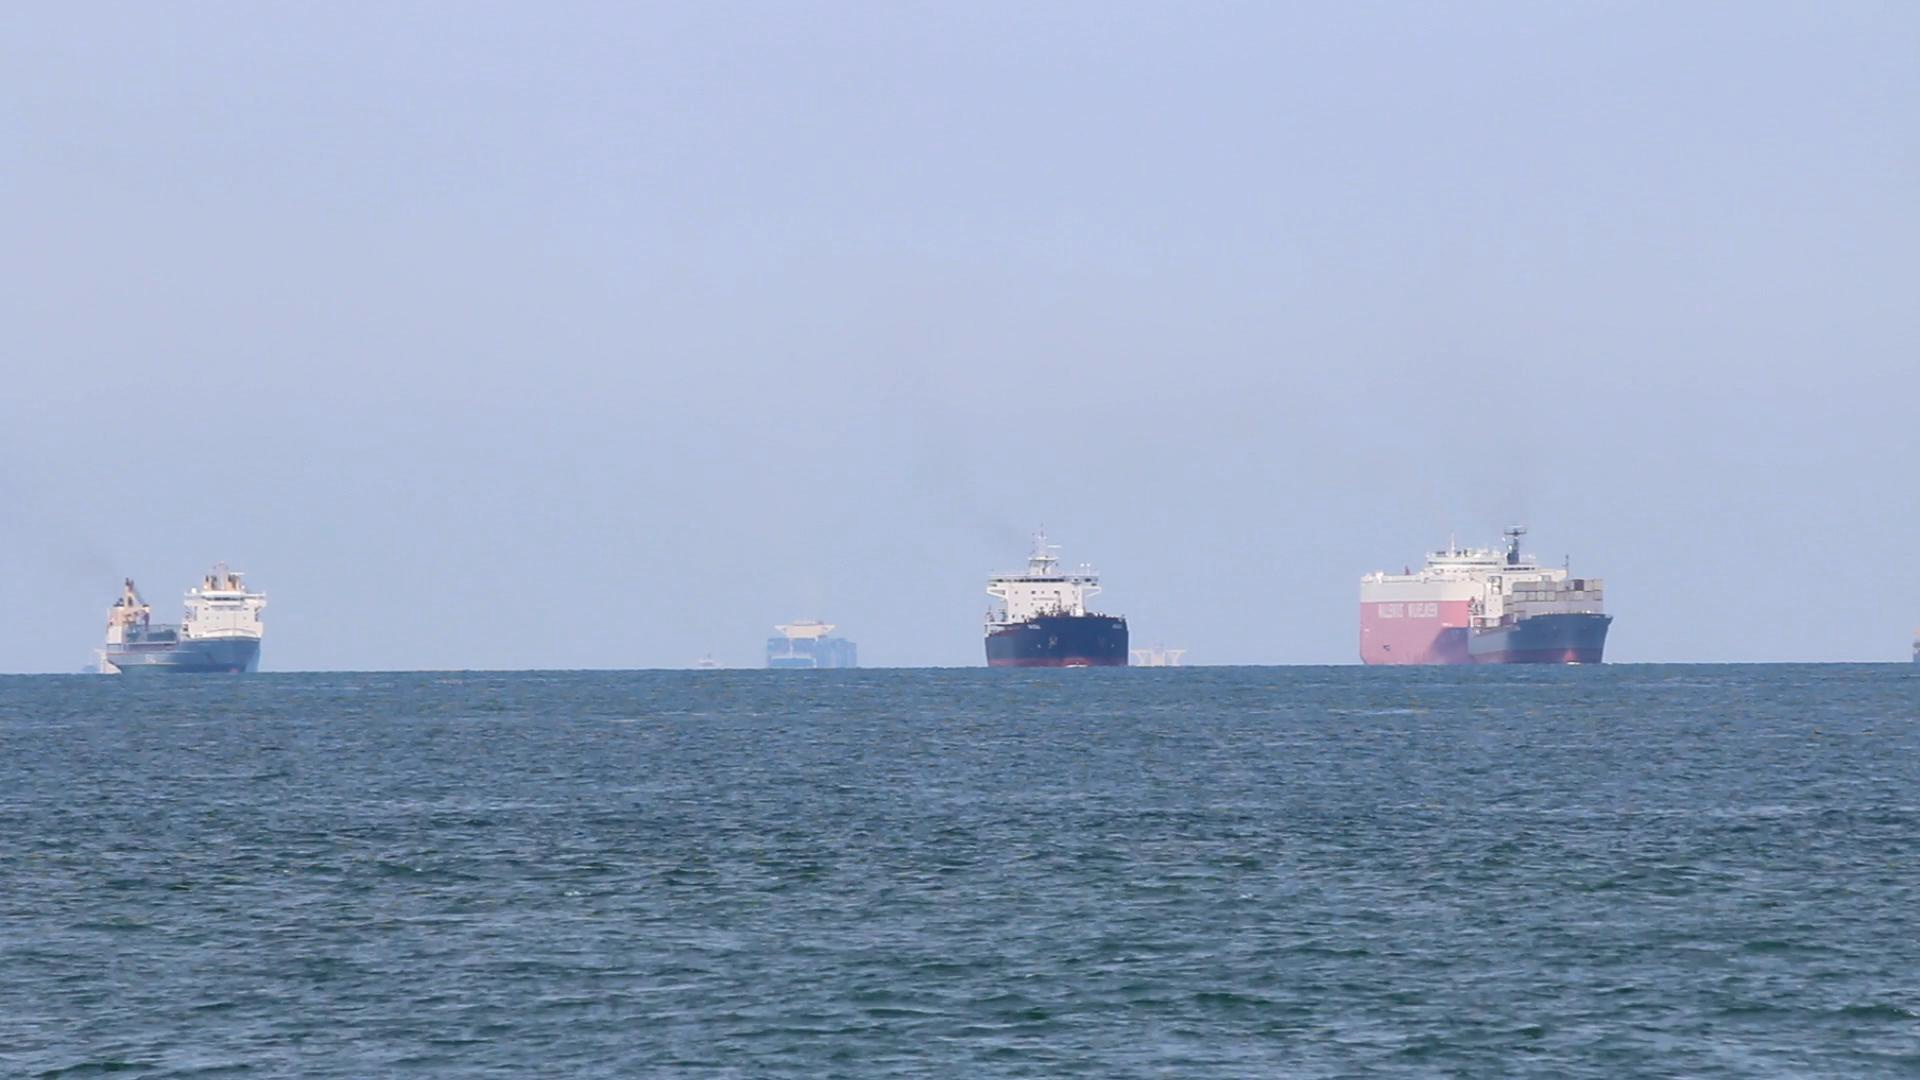Container Ship: (1356, 524, 1614, 665), (981, 529, 1129, 669), (100, 556, 266, 674), (765, 617, 858, 670), (1129, 645, 1185, 669), (690, 645, 720, 673), (84, 640, 107, 674)
